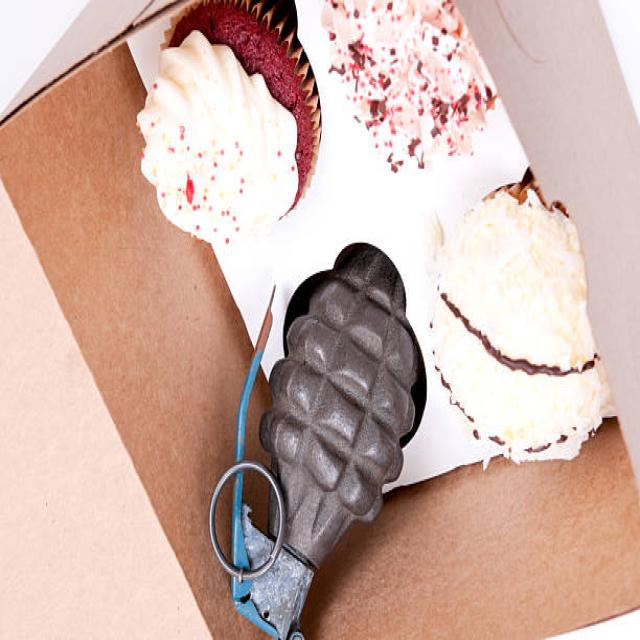grenade: (204, 247, 422, 640)
